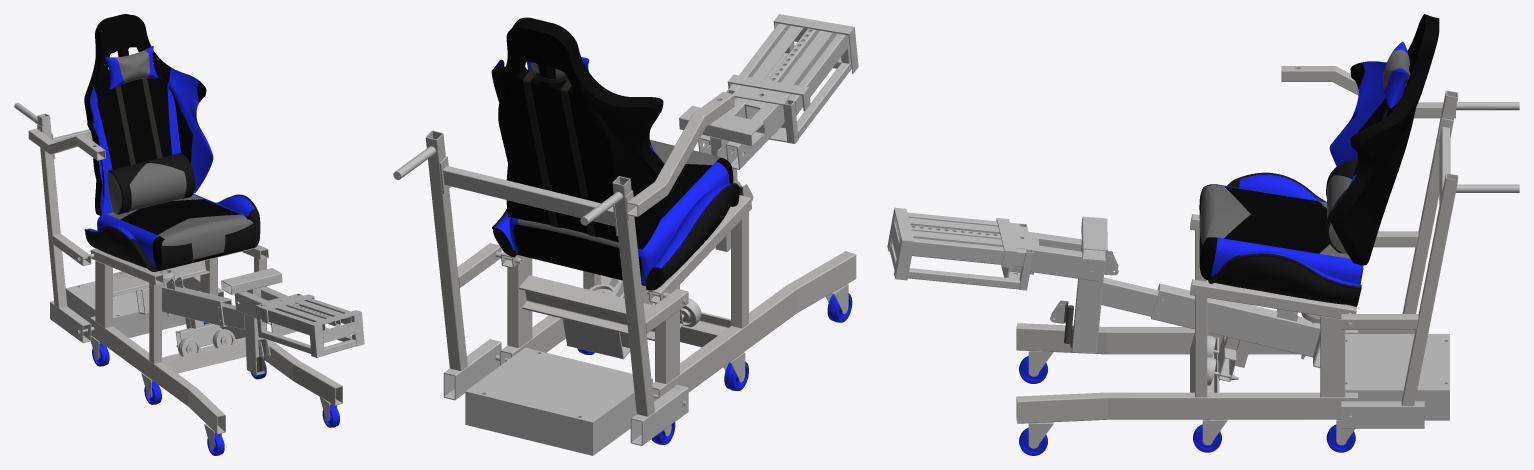
Rendered from source.glb.
3 views of the same model, side by side, from view 1: azimuth 30°, elevation 25°; view 2: azimuth 150°, elevation 25°; view 3: azimuth 270°, elevation 25° (orthographic). The views are drawn at different scales.
Visible parts, largest first — view 1: Chair:1, Bent leg:1, Electrical box:1, 1.5x1.5 rect beam-03:1, Bent leg 2:1, 4x2 rect beam-02:2, Middle I-Beam:2, Vertical leg 2:1, Middle I-Beam:1, Vertical leg 1:2, 3x1.5 rect beam-01:1, 3x1.5 rect beam-05:1 (+18 smaller); view 2: Chair:1, Electrical box:1, 1.5x1.5 rect beam-03:1 (×2), Bent leg:1, Middle I-Beam:1, 3x1.5 rect beam-05:1 (×2), 2x1 rect beam-01:1, Vertical leg 1:2, 1.5x1.5 rect beam-04:2 (×2), Vertical leg 2:2, Support bar 1:1, 4x2 rect beam-01:1 (+22 smaller); view 3: Chair:1, Bent leg 2:1, Electrical box:1, 1.5x1.5 rect beam-03:1 (×2), 4x2 rect beam-02:2, Bent leg:1, 3x1.5 rect beam-05:1 (×2), Support bar 1:2, Vertical leg 2:2, 3x1.5 rect beam-02:2, 1.5x1.5 rect beam-04:2 (×2), 2x1 rect beam-02:1 (+12 smaller).
Part boxes in pixels (x1=…): Chair:1: x1=84, y1=14, x2=260, y2=271; Bent leg:1: x1=90, y1=316, x2=225, y2=433; Electrical box:1: x1=65, y1=281, x2=186, y2=337; 1.5x1.5 rect beam-03:1: x1=37, y1=113, x2=67, y2=308; Bent leg 2:1: x1=199, y1=290, x2=342, y2=405; 4x2 rect beam-02:2: x1=162, y1=283, x2=232, y2=326; Middle I-Beam:2: x1=162, y1=337, x2=246, y2=373; Vertical leg 2:1: x1=95, y1=260, x2=112, y2=327; Middle I-Beam:1: x1=113, y1=261, x2=209, y2=296; Vertical leg 1:2: x1=149, y1=280, x2=161, y2=363; 3x1.5 rect beam-01:1: x1=221, y1=268, x2=282, y2=294; 3x1.5 rect beam-05:1: x1=50, y1=301, x2=91, y2=343; Chair:1: x1=491, y1=17, x2=739, y2=290; Electrical box:1: x1=465, y1=347, x2=652, y2=455; 1.5x1.5 rect beam-03:1 (×2): x1=425, y1=130, x2=654, y2=416; Bent leg:1: x1=652, y1=251, x2=856, y2=401; Middle I-Beam:1: x1=519, y1=275, x2=654, y2=340; 3x1.5 rect beam-05:1 (×2): x1=443, y1=339, x2=688, y2=445; 2x1 rect beam-01:1: x1=443, y1=166, x2=615, y2=226; Vertical leg 1:2: x1=731, y1=212, x2=748, y2=328; 1.5x1.5 rect beam-04:2 (×2): x1=457, y1=243, x2=688, y2=333; Vertical leg 2:2: x1=507, y1=256, x2=532, y2=347; Support bar 1:1: x1=648, y1=195, x2=751, y2=303; 4x2 rect beam-01:1: x1=563, y1=319, x2=629, y2=359; Chair:1: x1=1199, y1=14, x2=1439, y2=306; Bent leg 2:1: x1=1016, y1=392, x2=1357, y2=423; Electrical box:1: x1=1345, y1=334, x2=1449, y2=420; 1.5x1.5 rect beam-03:1 (×2): x1=1401, y1=90, x2=1458, y2=405; 4x2 rect beam-02:2: x1=1151, y1=283, x2=1320, y2=357; Bent leg:1: x1=1016, y1=323, x2=1357, y2=354; 3x1.5 rect beam-05:1 (×2): x1=1016, y1=244, x2=1424, y2=428; Support bar 1:2: x1=1190, y1=279, x2=1356, y2=318; Vertical leg 2:2: x1=1320, y1=316, x2=1345, y2=397; 3x1.5 rect beam-02:2: x1=1071, y1=242, x2=1105, y2=353; 1.5x1.5 rect beam-04:2 (×2): x1=1341, y1=231, x2=1418, y2=329; 2x1 rect beam-02:1: x1=912, y1=238, x2=1025, y2=266.
Bounding box in the file's own units: 0.6825 × 1.33 × 1.92.
